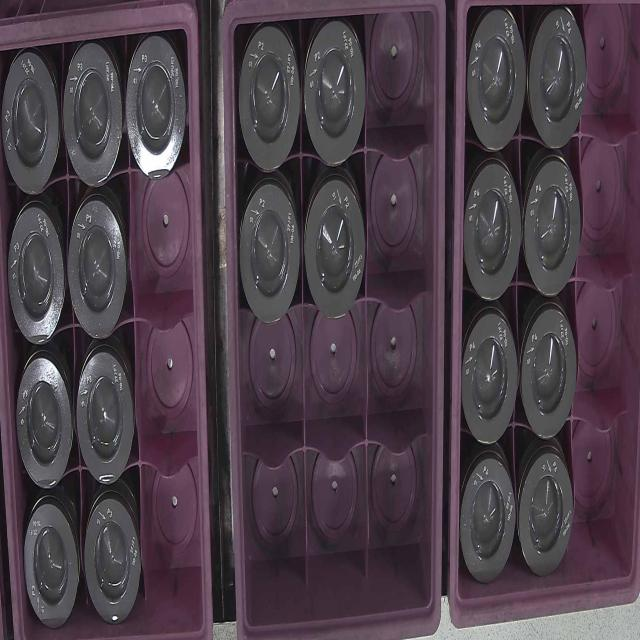P2: (304, 26, 366, 170), (305, 178, 366, 320), (238, 29, 300, 167), (239, 182, 298, 322)
P3: (65, 43, 123, 184), (128, 42, 186, 180), (2, 54, 58, 192), (7, 212, 64, 344), (78, 351, 134, 482), (70, 202, 125, 334), (85, 498, 142, 624), (23, 504, 79, 630), (16, 360, 70, 487)
P4: (529, 11, 585, 153), (469, 14, 527, 151), (461, 313, 518, 448), (524, 162, 579, 301), (466, 163, 520, 302), (522, 314, 578, 442), (518, 456, 575, 579), (461, 460, 516, 584)
